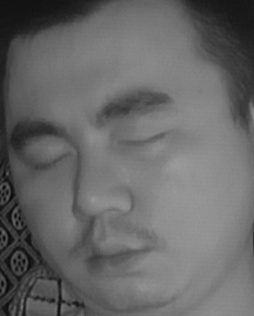blink: (116, 120, 172, 160), (23, 143, 76, 179)
mouth: (76, 229, 152, 279)
